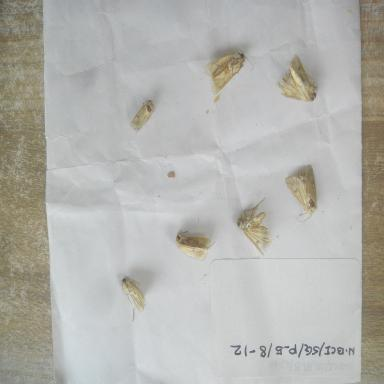abw: (201, 42, 258, 103), (274, 48, 323, 109), (232, 193, 274, 258), (283, 158, 320, 226), (171, 220, 220, 266), (118, 272, 150, 322), (127, 92, 158, 134)
